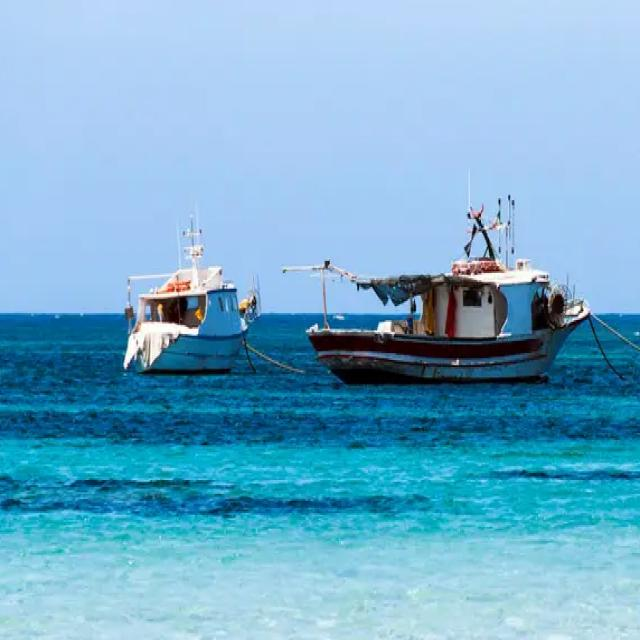fishing boat: (295, 180, 590, 385), (113, 214, 258, 376)
